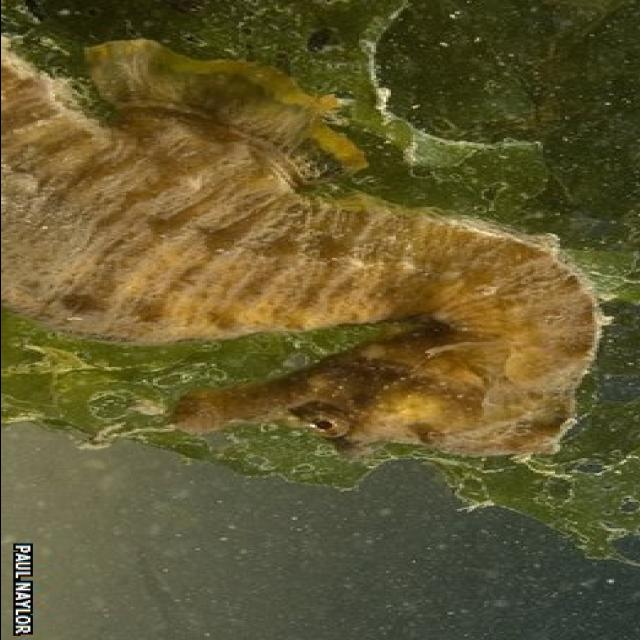Hippo: (153, 339, 603, 460)
